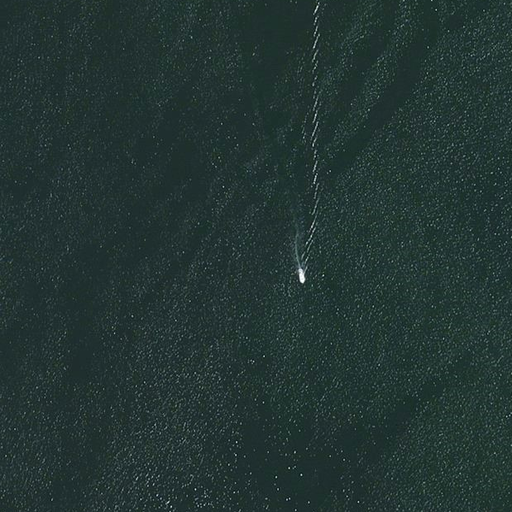ship: (294, 263, 307, 285)
